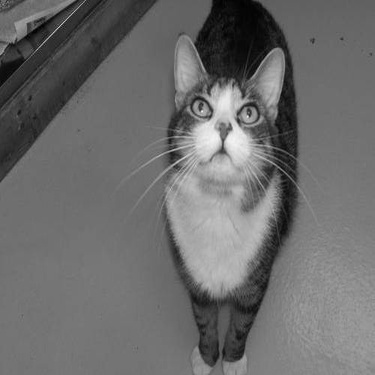cat: (160, 1, 298, 372)
